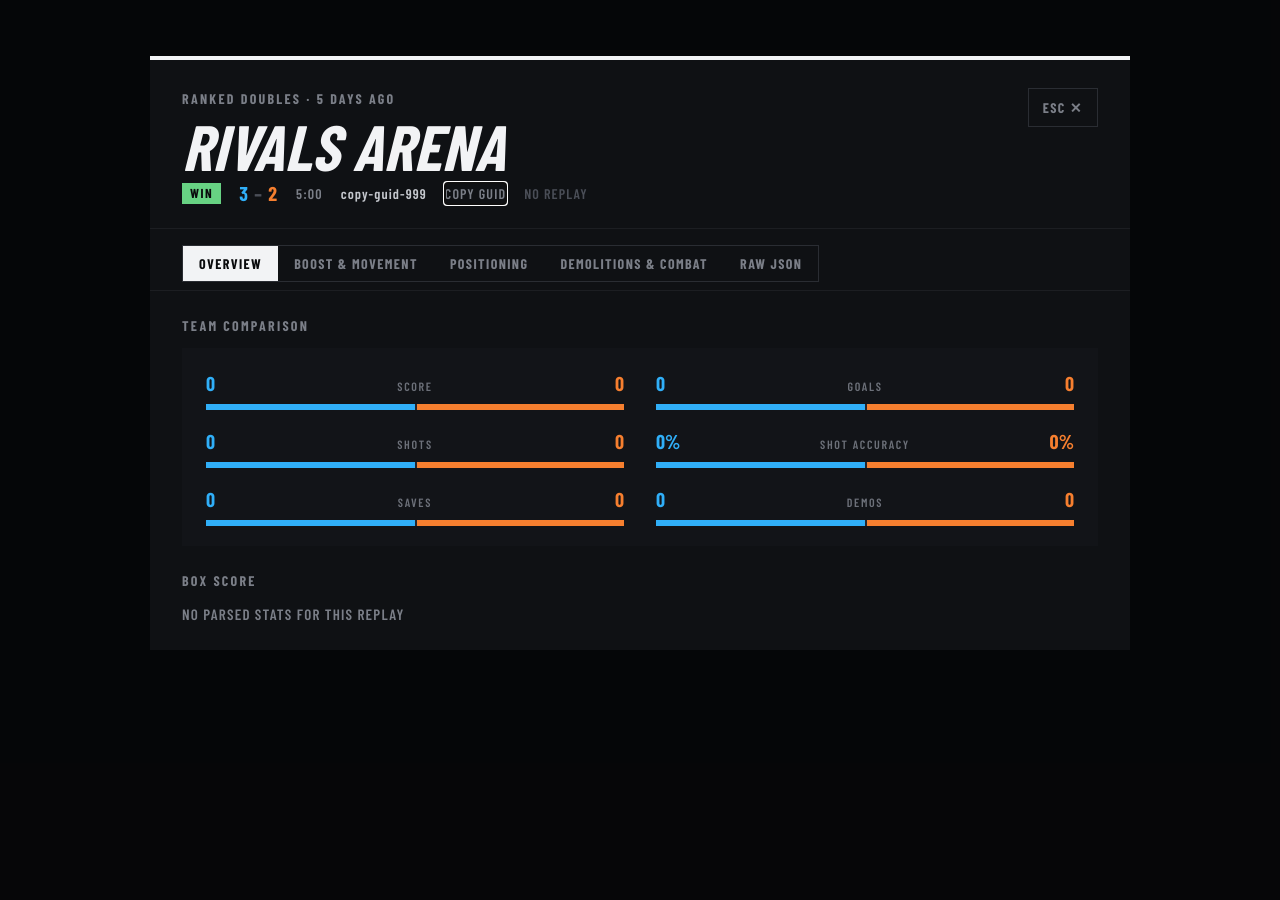
Scenario: M4 ADVERSARIAL CHALLENGER SUITE 1: DRILL-DOWNS, MODALS & VIEWS › HistoricalMatchDetailModal.tsx Adversarial Stress › tests Copy JSON button functionality and clipboard fallback
Click the button "RAW JSON".
click(771, 264)  # box [724,246,818,281]
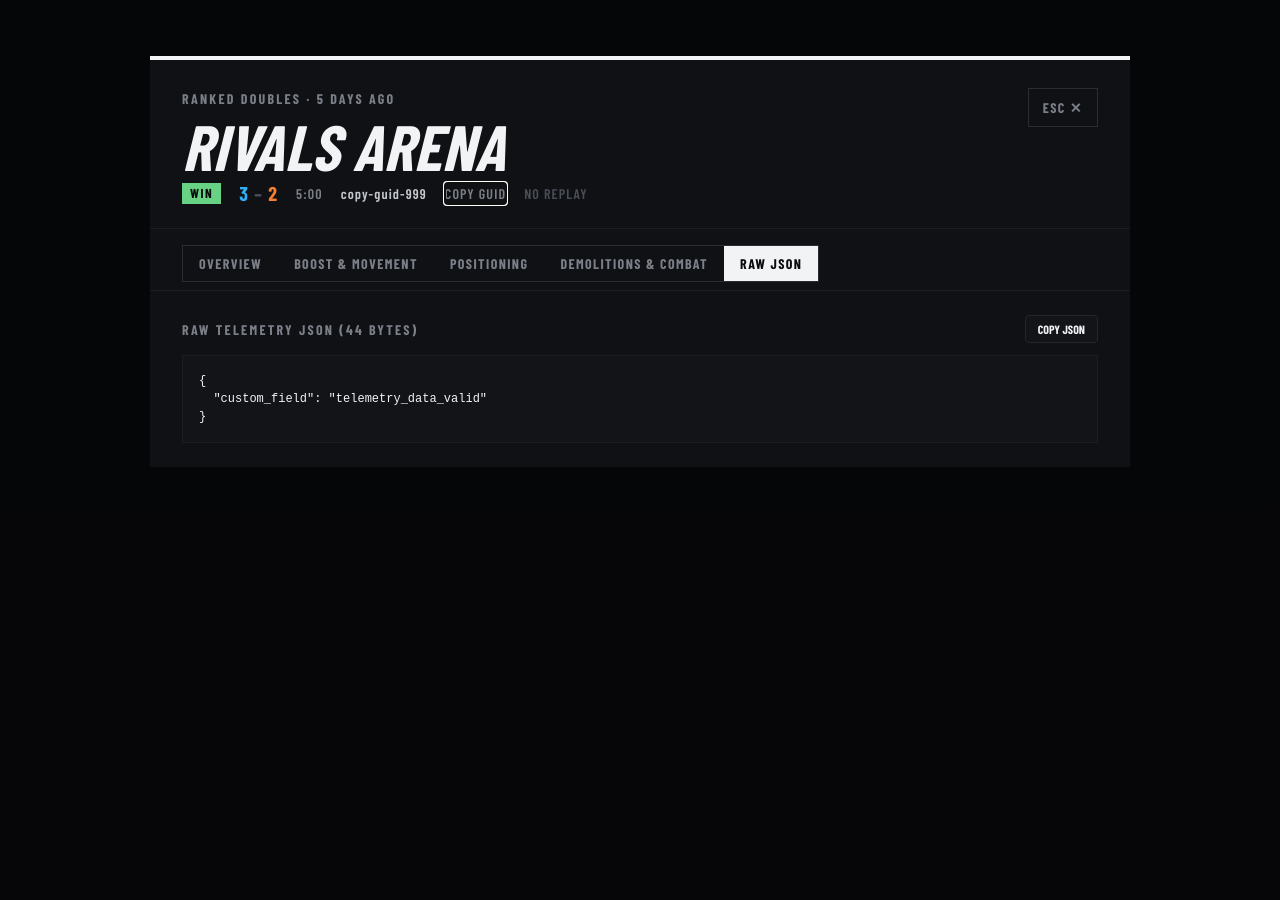
Expected: the text "COPY JSON" is shown
Expected: the button with test id "copy-json-btn" is shown
Click the button with test id "copy-json-btn".
click(1061, 329)  # box [1025,315,1098,343]
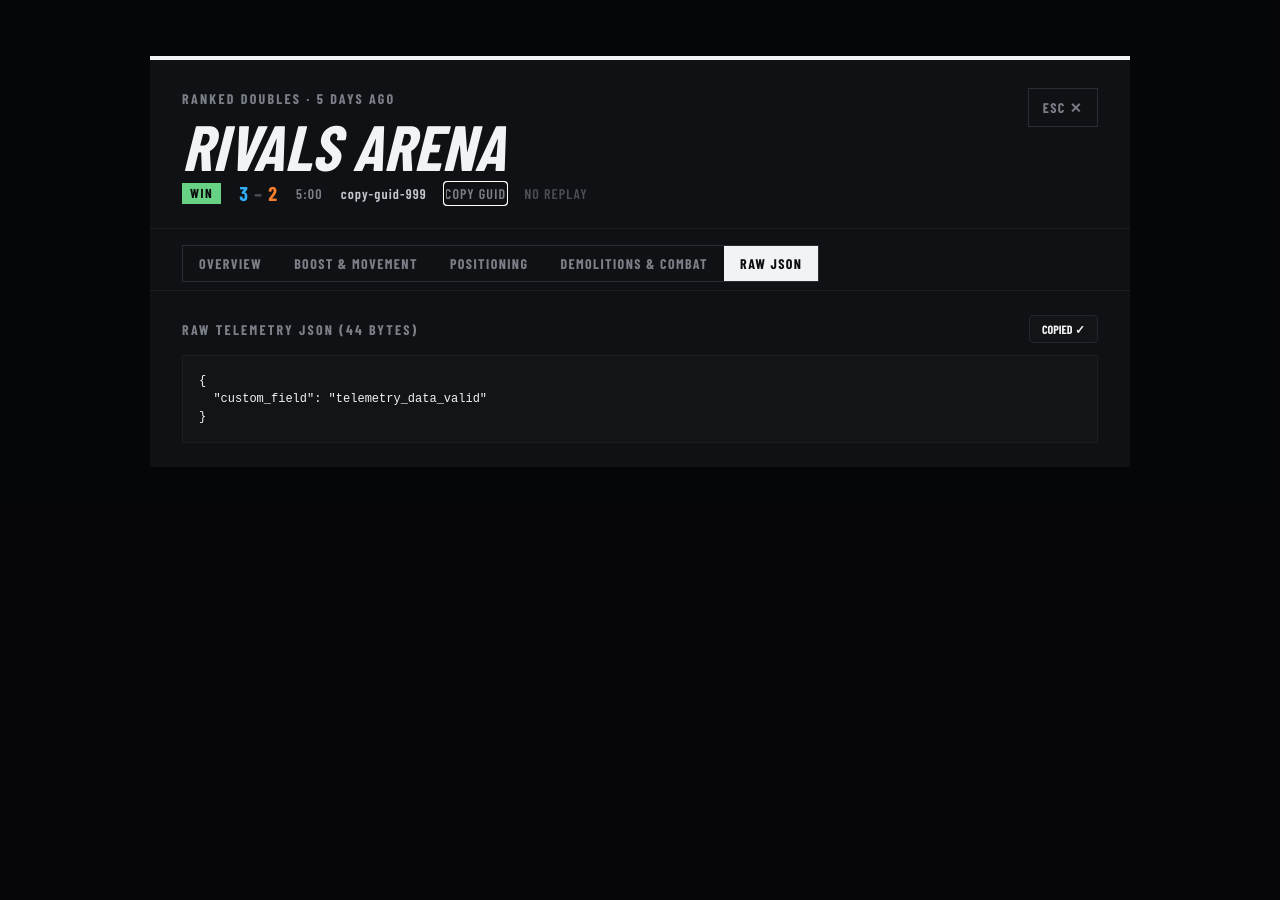
Expected: the button with test id "copy-json-btn" reads "COPIED ✓", [1029,315,1098,343]
